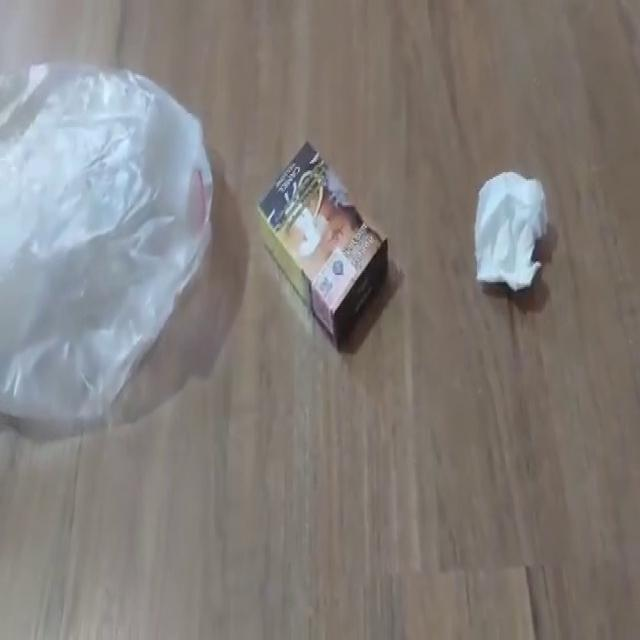Anorganik: (1, 52, 219, 430)
Organik: (252, 136, 391, 358), (471, 164, 550, 299)
